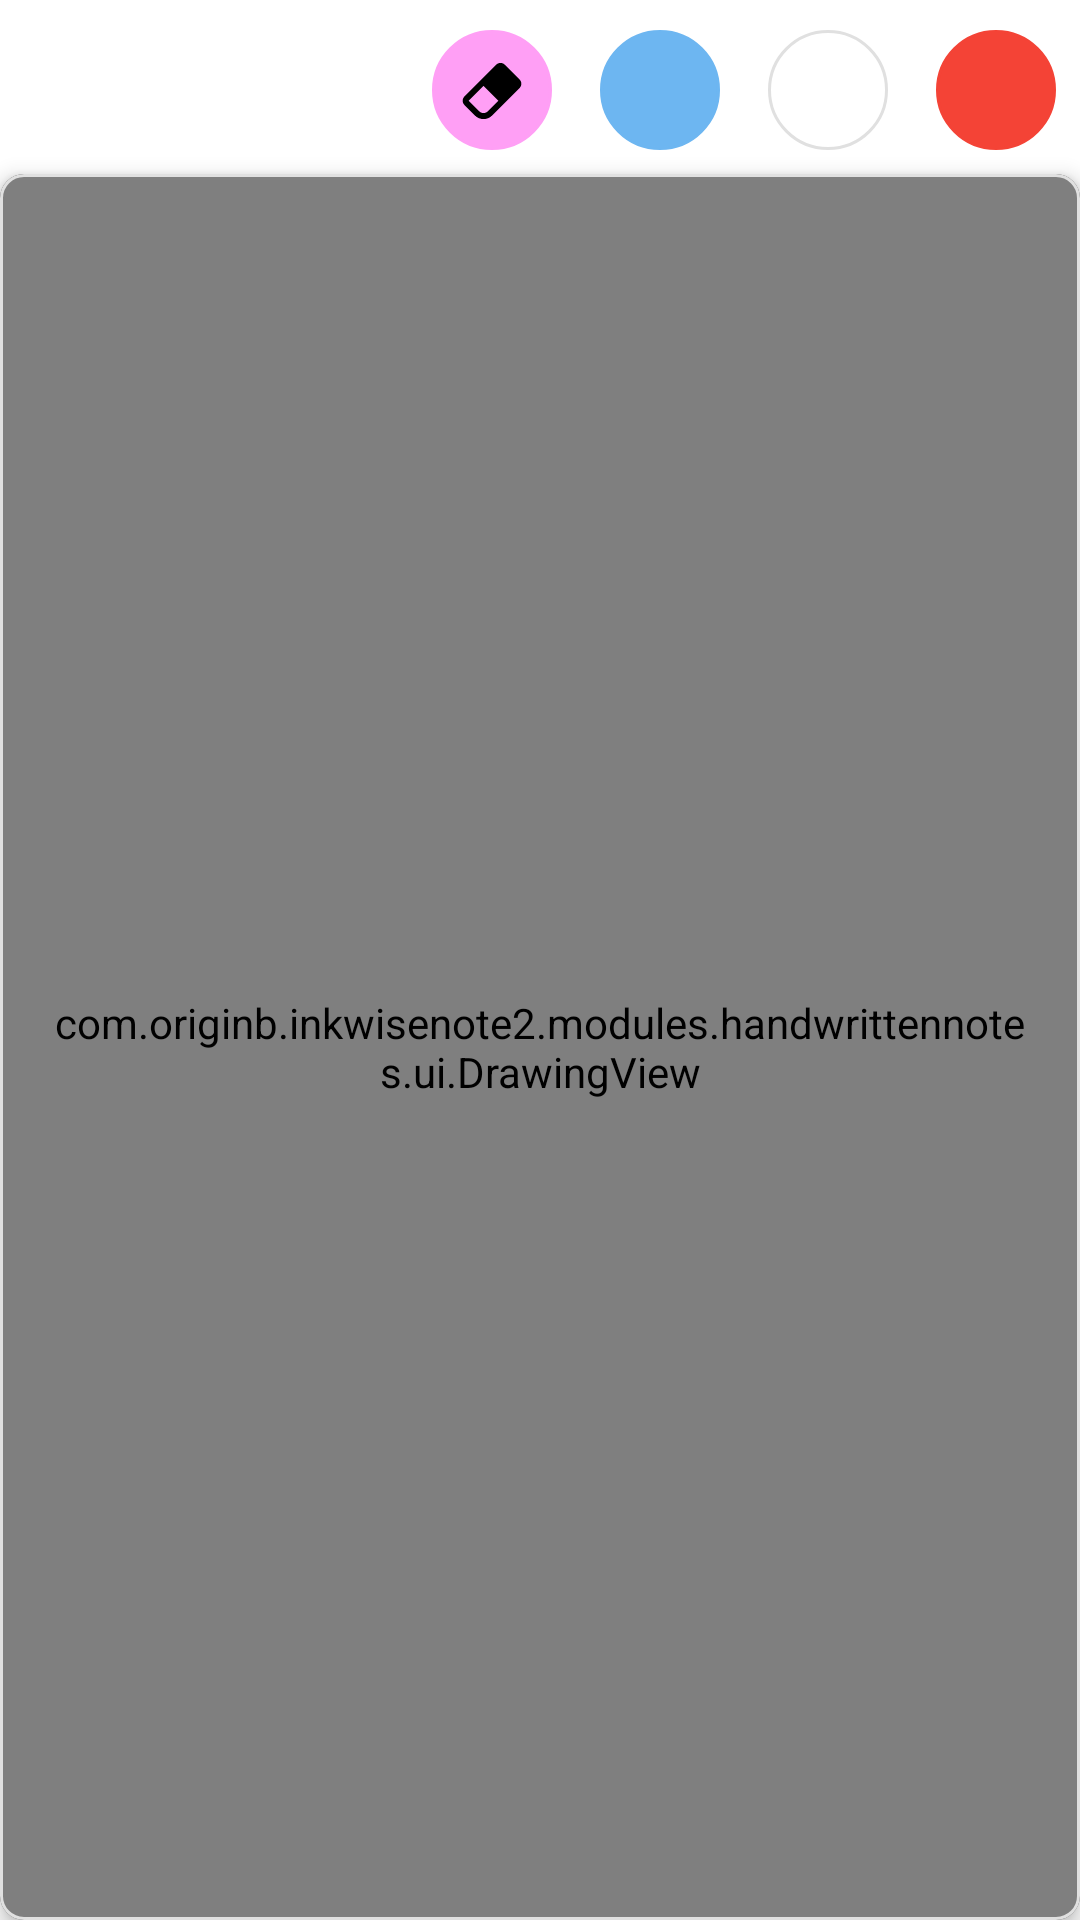

Icons on this 1080×1920 Android screen, each with the point to tap as point (x, y):
Eraser: point (492, 90)
